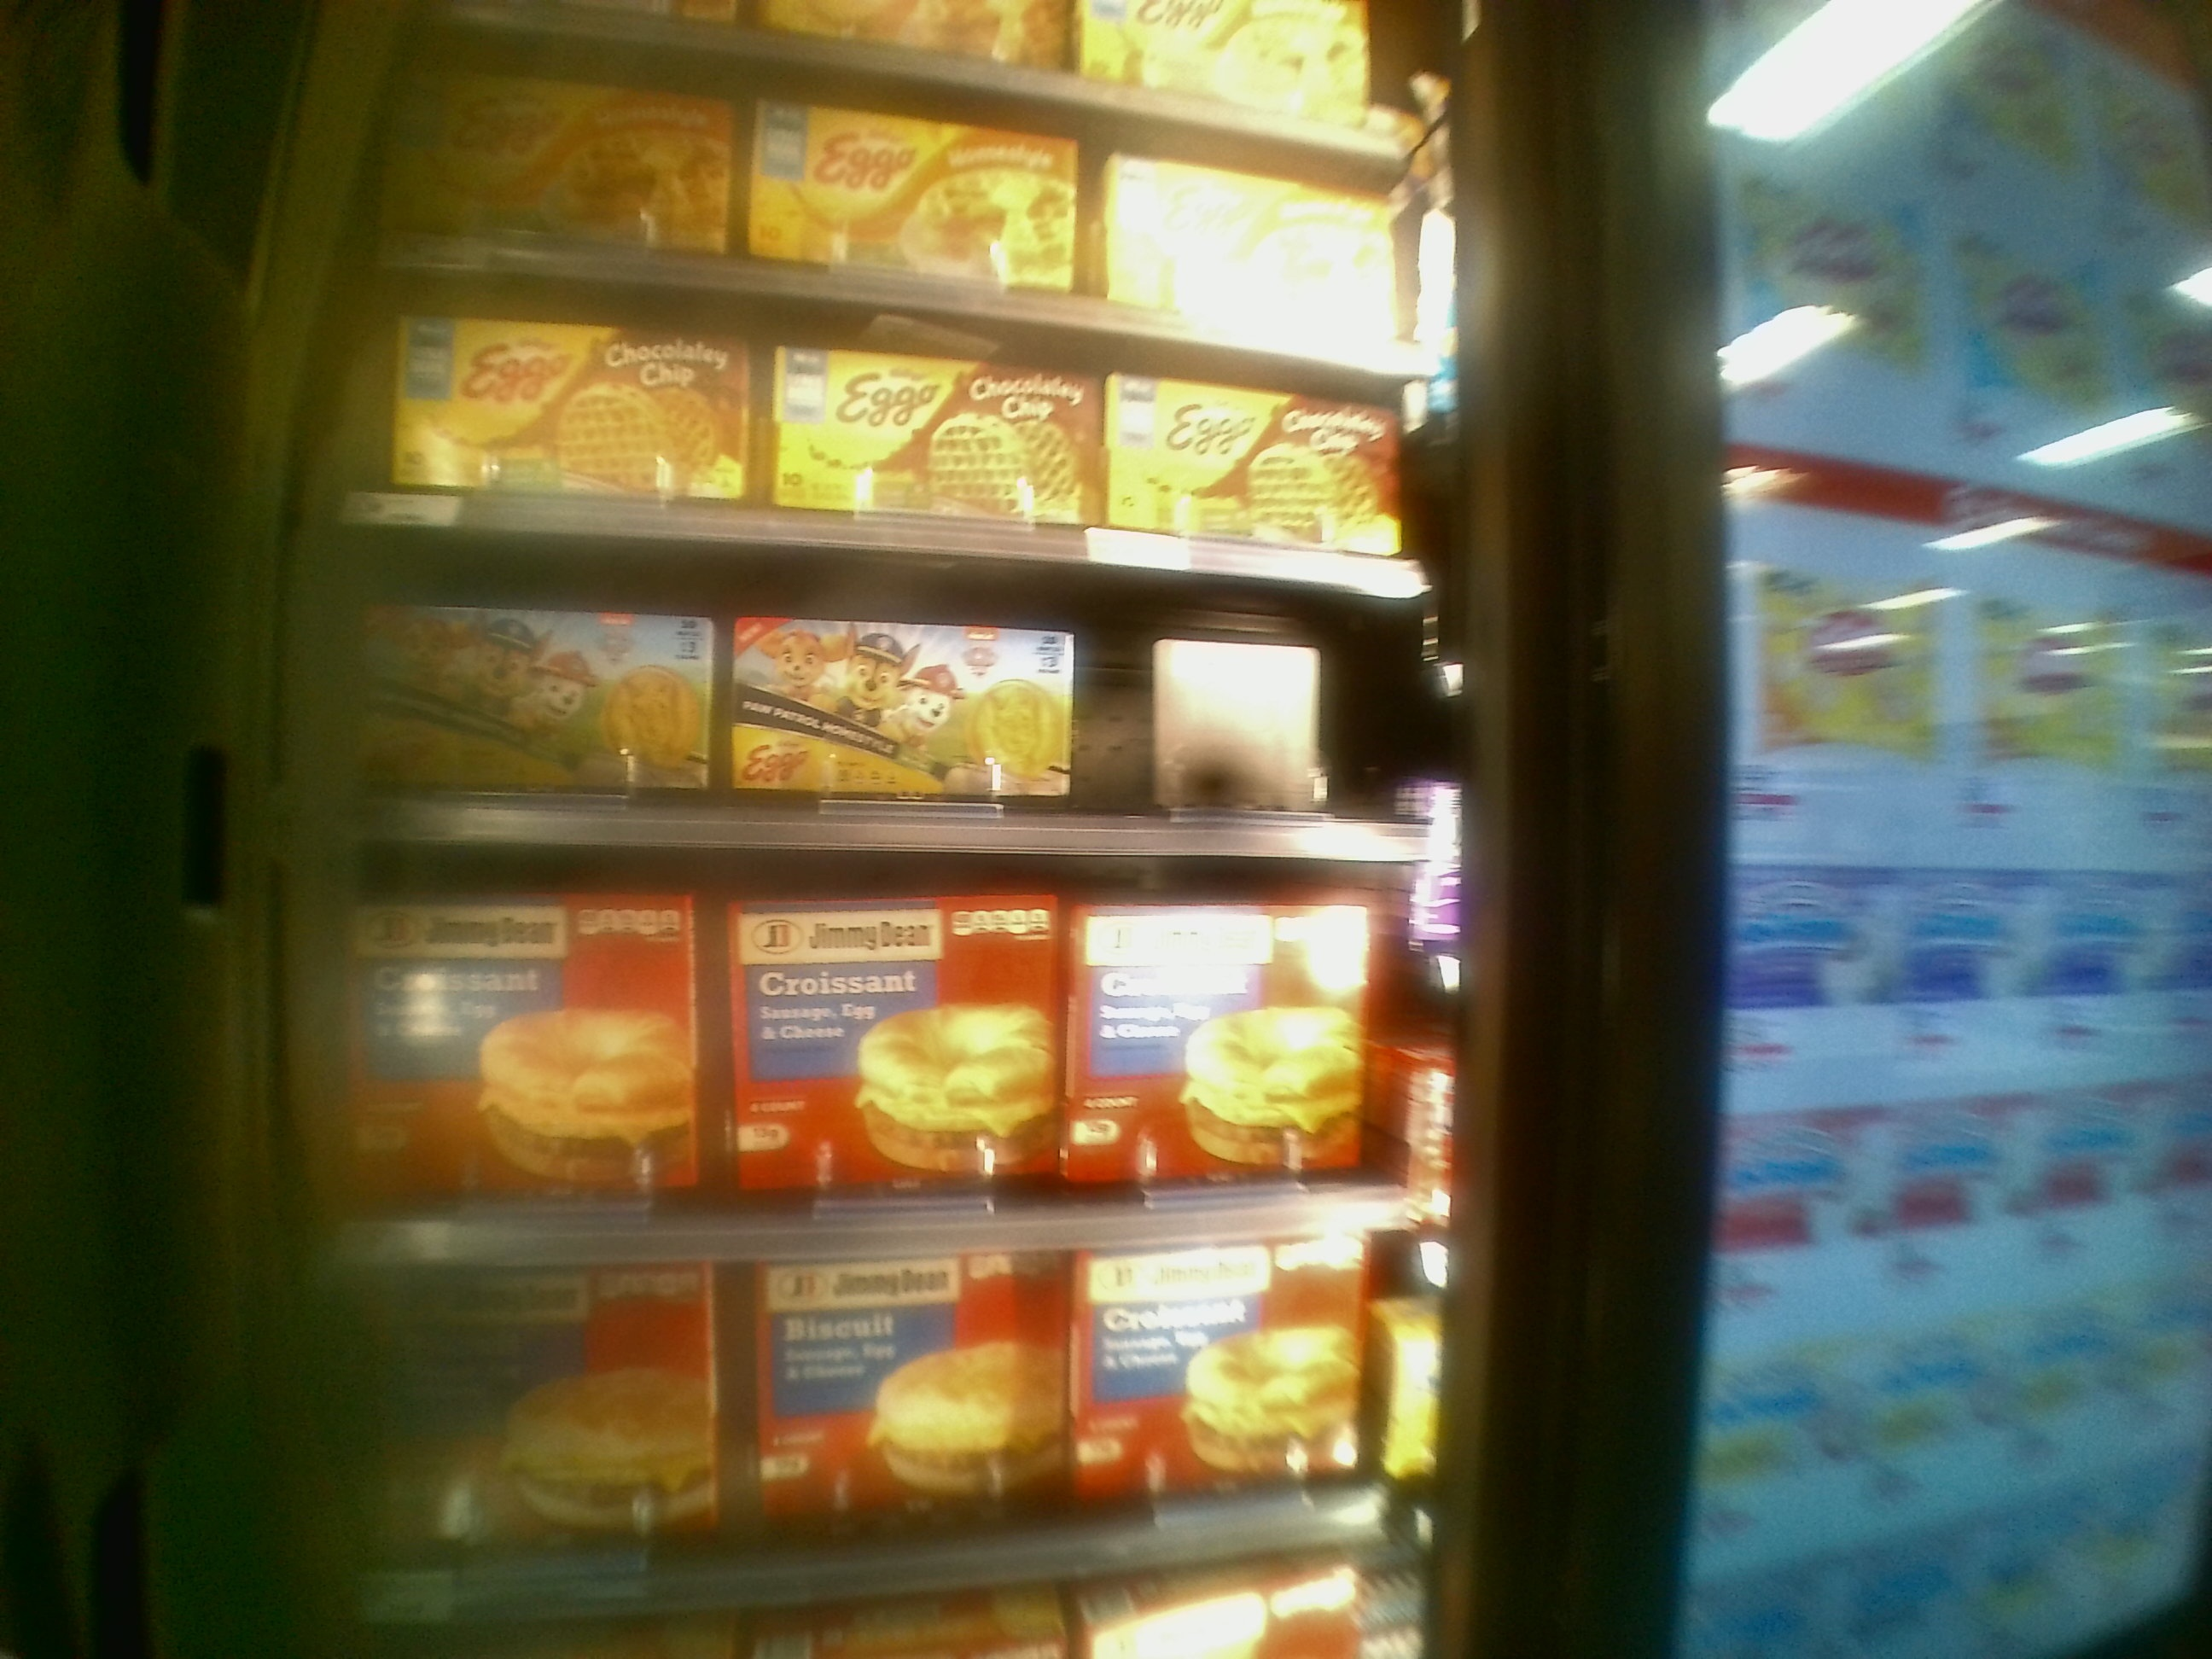shelf: (341, 838, 1474, 1263), (336, 532, 1439, 857)
